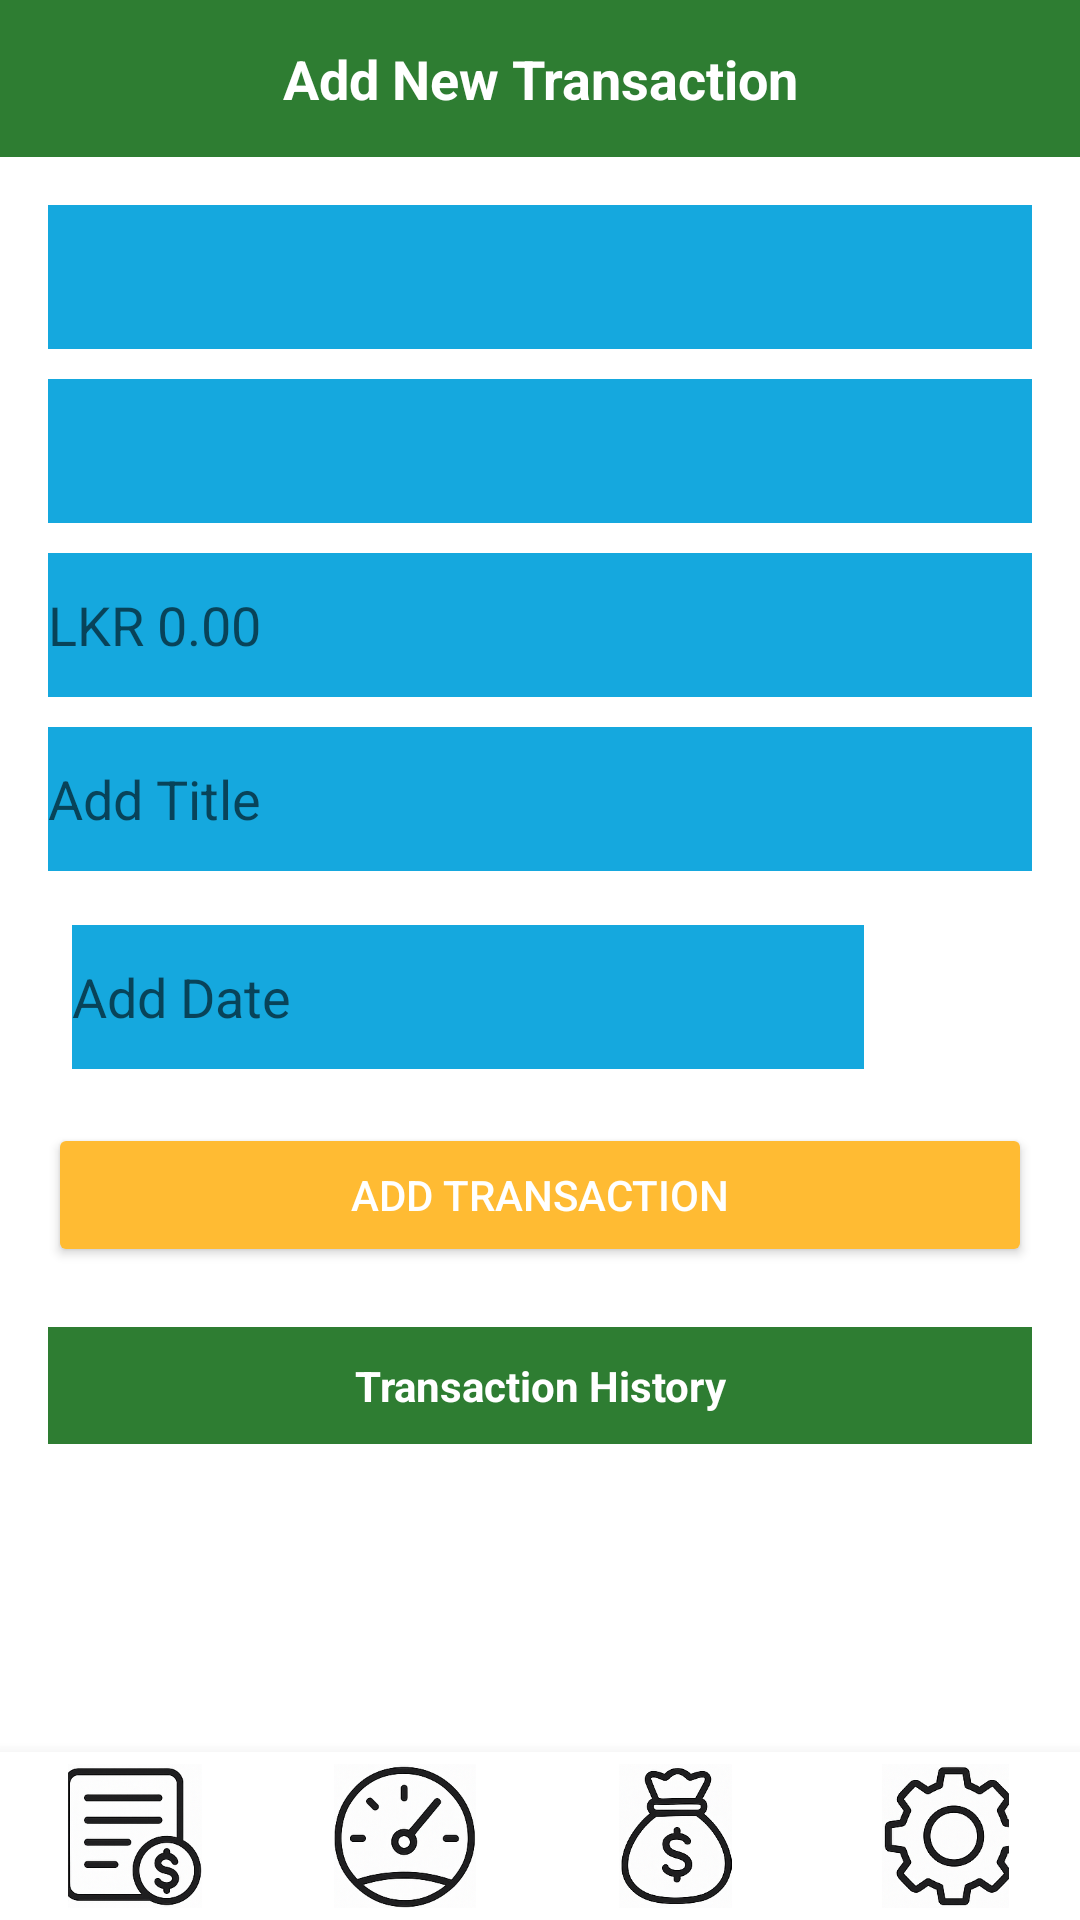

Named icons in this screenshot (1080w x 1920h) and their bounding boxes, (x1,y1,x2,y2):
Budget: (621,1768,732,1904)
Dashboard: (334,1766,475,1908)
Setting: (884,1767,1009,1906)
Transaction: (68,1768,202,1906)
